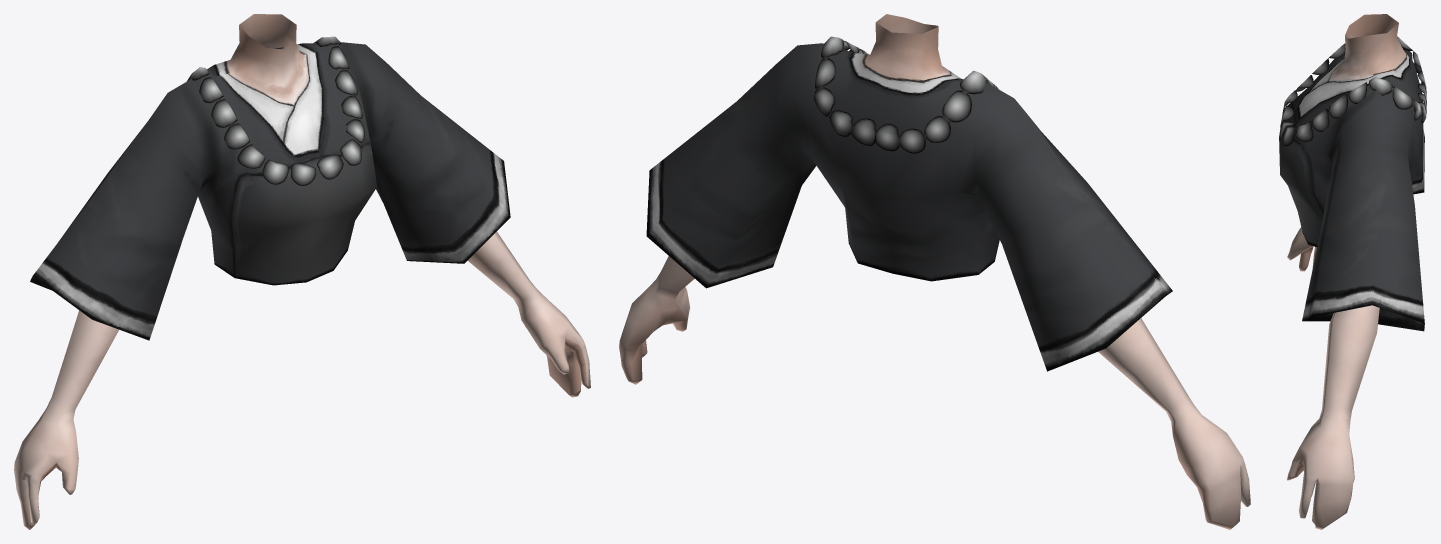
The model's file is CH_Aka_Monk_F_Chest03.FBX.
3 views of the same model, side by side, from view 1: azimuth 30°, elevation 25°; view 2: azimuth 150°, elevation 25°; view 3: azimuth 270°, elevation 25° (orthographic). The views are drawn at different scales.
Parts seen in each view (by area): view 1: CH_Aka_Monk_F_Chest03; view 2: CH_Aka_Monk_F_Chest03; view 3: CH_Aka_Monk_F_Chest03.
Part boxes in pixels (left/top/right/bottom): CH_Aka_Monk_F_Chest03: left=14, top=14, right=590, bottom=529; CH_Aka_Monk_F_Chest03: left=619, top=14, right=1250, bottom=529; CH_Aka_Monk_F_Chest03: left=1279, top=14, right=1426, bottom=529.
Size of the model in its own units: 90.35 by 64.72 by 22.59.
Materials: 1 (1 with a texture image).
